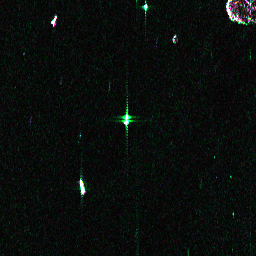ship: (77, 176, 87, 196), (122, 112, 131, 127), (49, 14, 59, 25), (141, 2, 149, 11)
